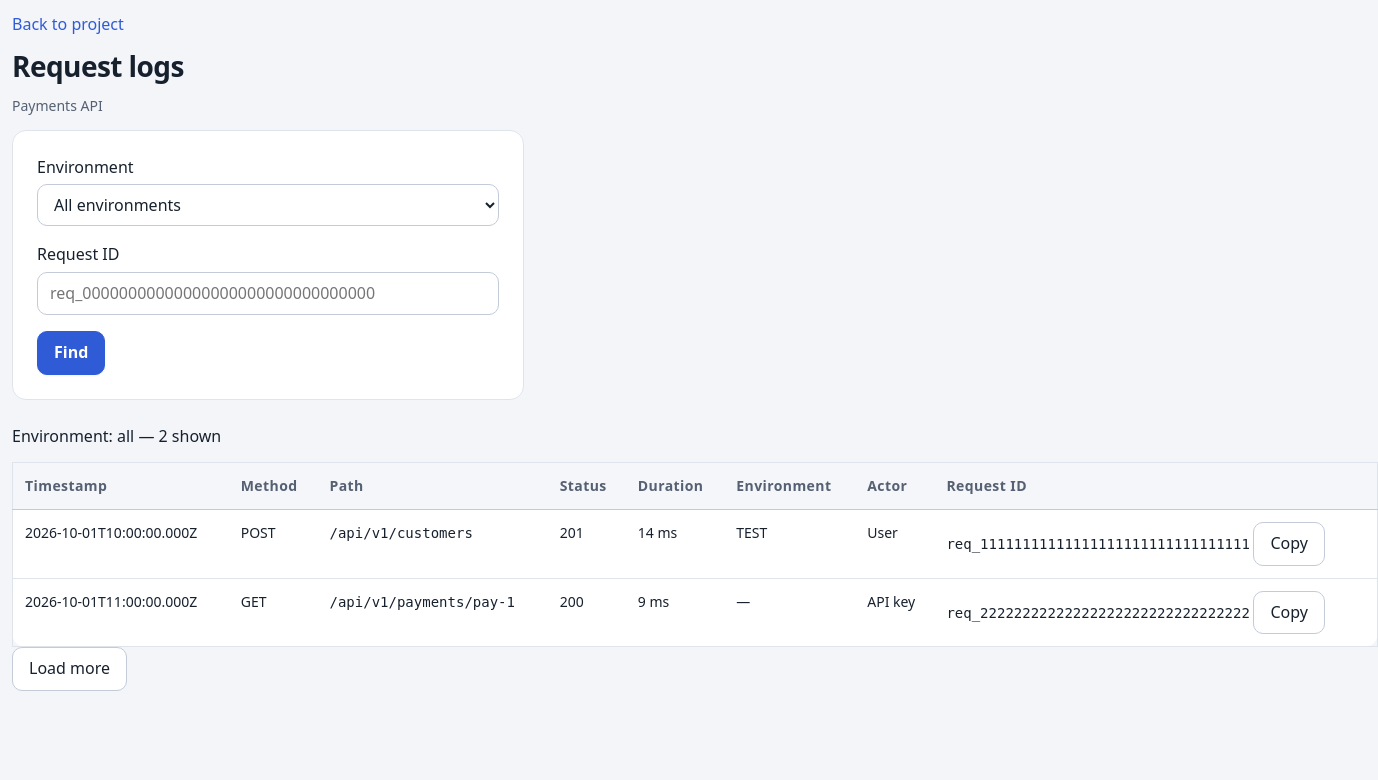
Scenario: request logs page (phase 11 §7) › drops a page still in flight when the filter changes (F3)
Click the button "Load more" at x=70, y=669, box [12, 647, 127, 691]
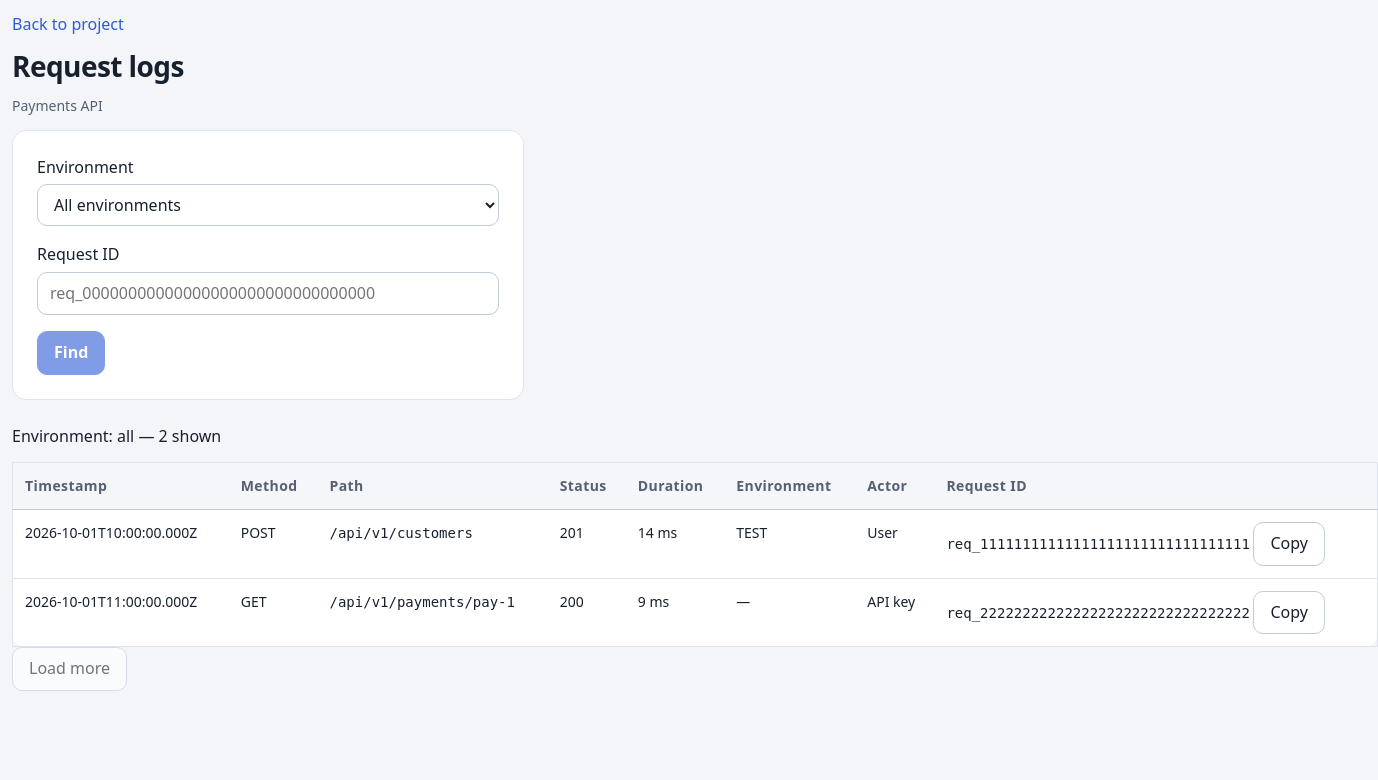
Select "TEST" in the dropdown labelled "Environment" at x=268, y=205, box [37, 184, 499, 226]
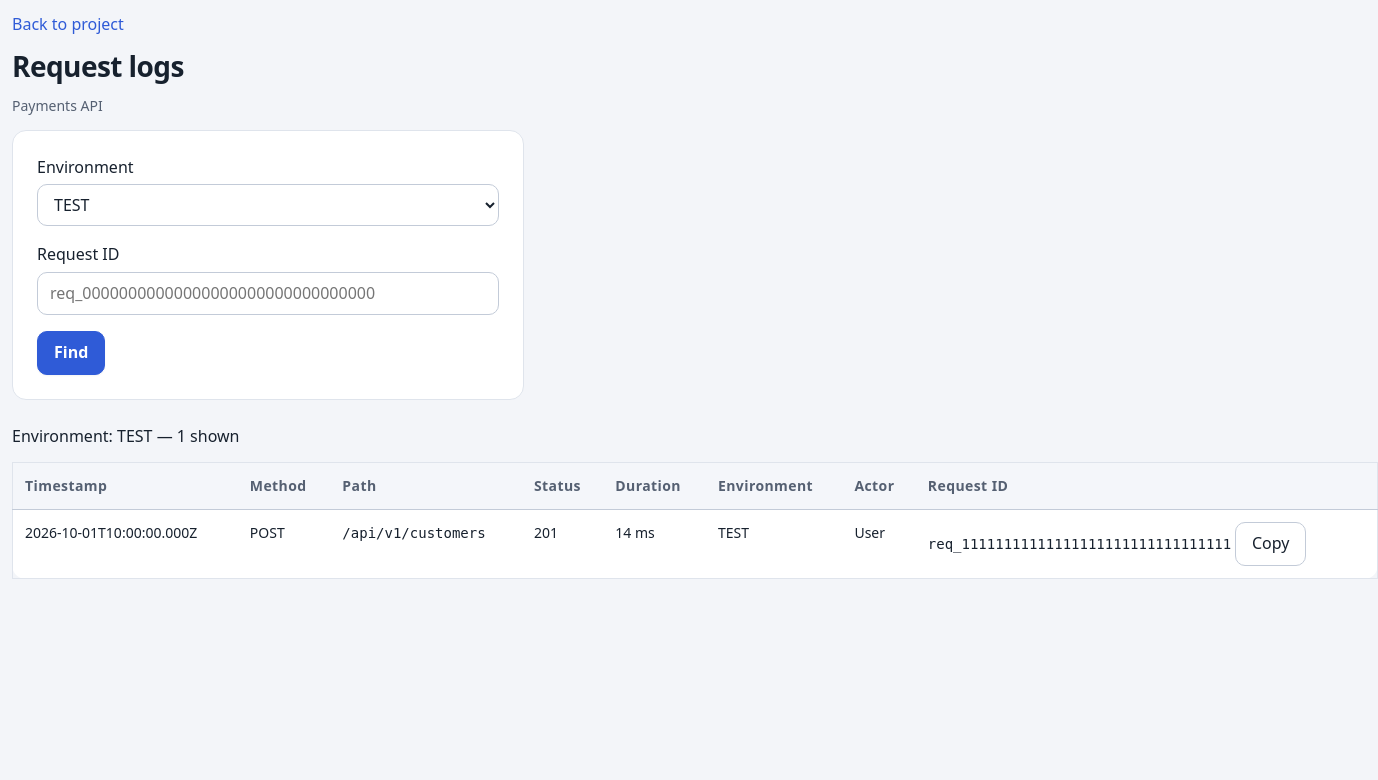
Expected: the table named "Request logs" is shown, [12, 462, 1377, 578]
Now the number of rows is 2, box [12, 462, 1377, 509]; [12, 509, 1377, 578]
